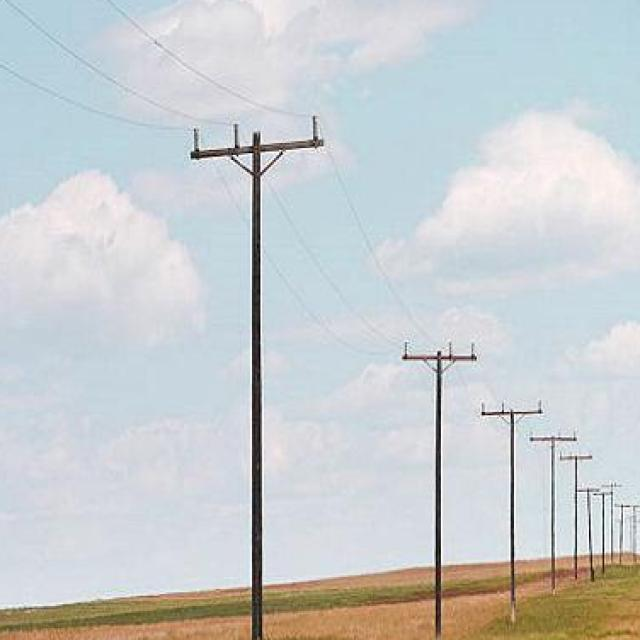non-critical vegetation: (175, 96, 334, 638), (395, 335, 485, 616), (485, 392, 545, 580), (558, 446, 596, 568)
